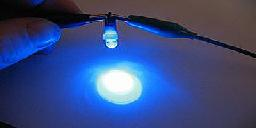LED: (101, 24, 120, 50)
